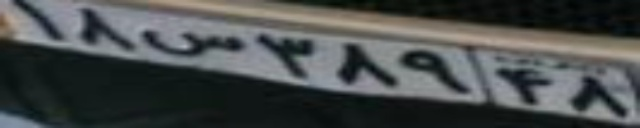1: (12, 1, 61, 41)
3: (252, 35, 317, 79)
4: (490, 65, 551, 105)
8: (332, 40, 399, 88), (70, 6, 133, 51), (562, 76, 629, 118)
9: (401, 49, 468, 94)
sin: (138, 27, 241, 60)
